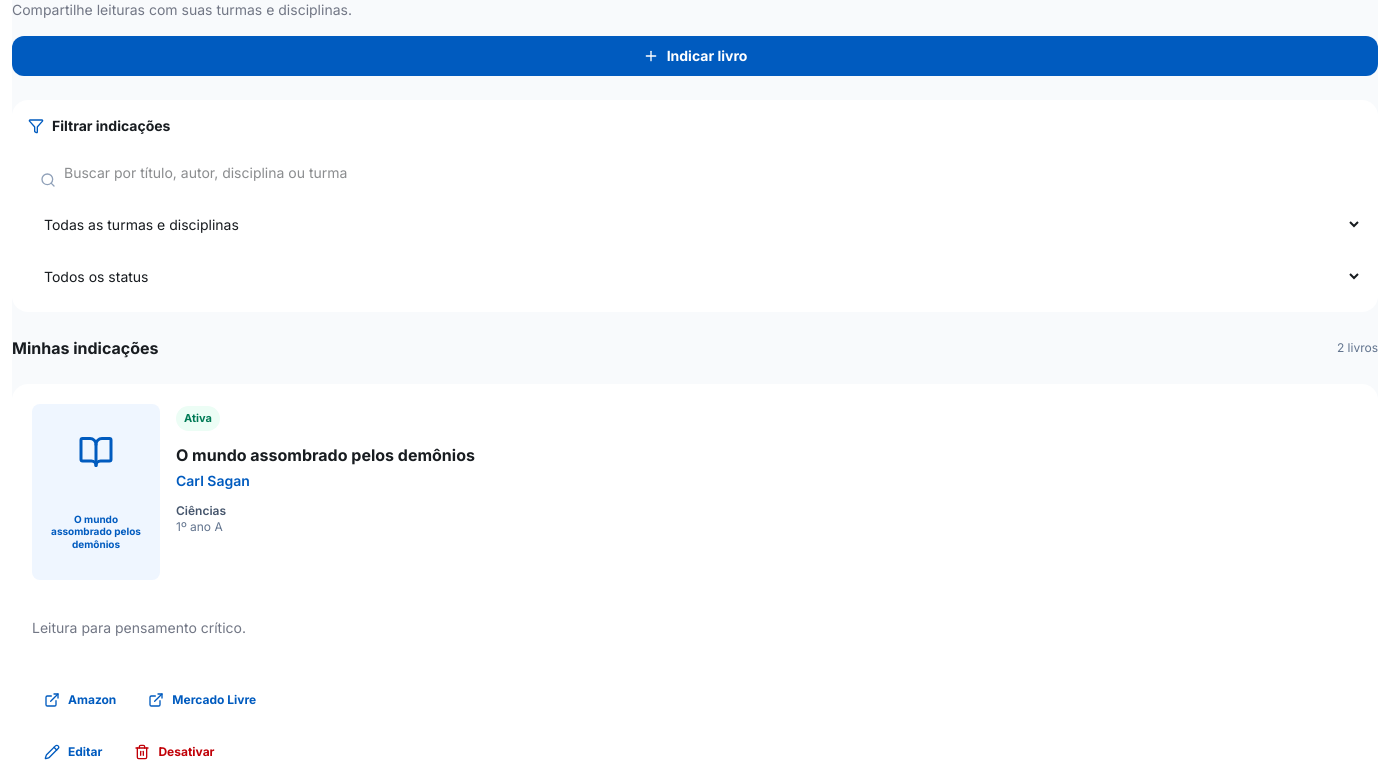
LibraryPage › filtra por título e mantém os links diretos para as lojas
Step 1. Type "Dom Casmurro" into the search field named "Buscar indicação" → (695, 172), box x1=28 y1=152 x2=1362 y2=192
(page scrolled)
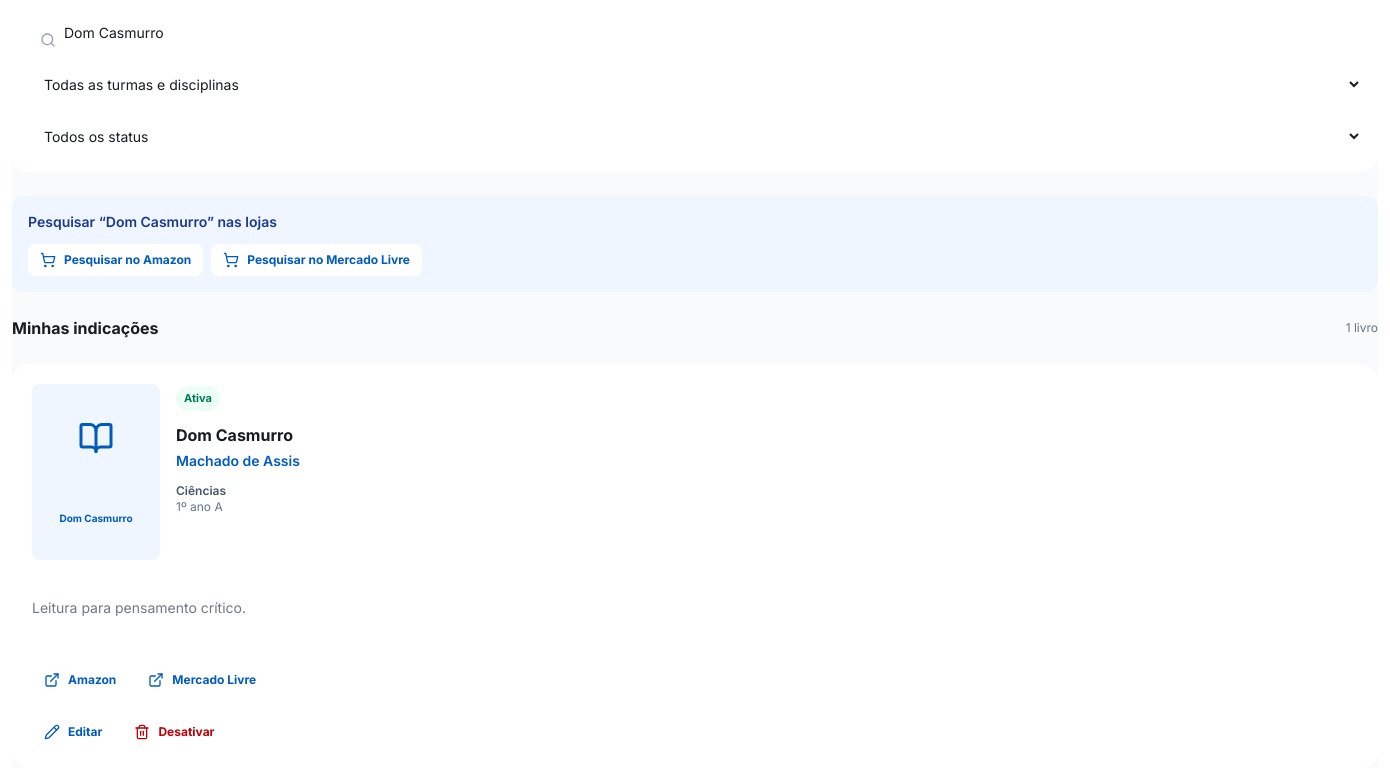
Expected: the heading "Dom Casmurro" is shown, x1=176 y1=424 x2=293 y2=444
Expected: the text "O mundo assombrado pelos demônios" is gone
